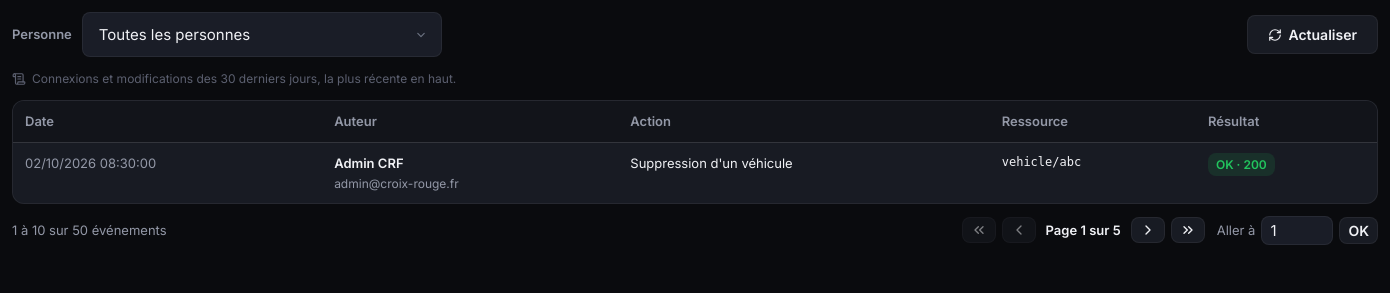
Test: AuditLogTab › première / dernière page et « Aller à »
Expected: the text "Page 1 sur 5" is shown, [1042,220,1125,241]
Click the button named "Dernière page" at (1188, 230), box [1171,218,1205,244]
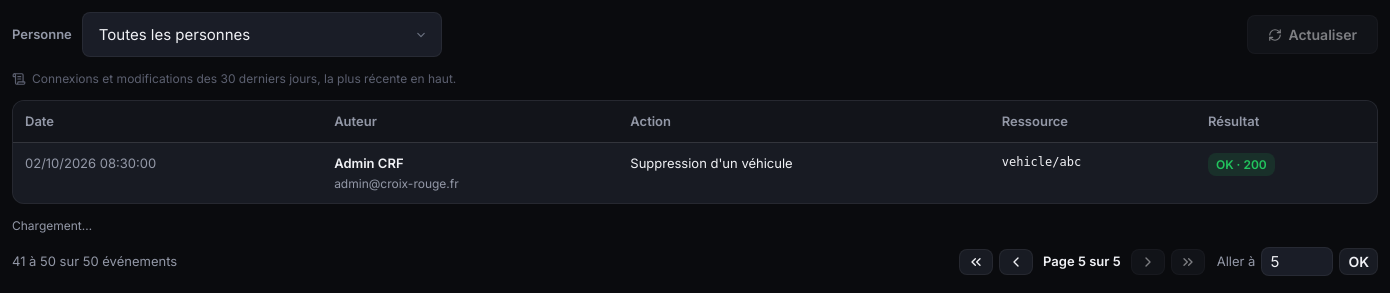
Result: the text "Page 5 sur 5" is shown at [1039,251,1125,272]
Replace the text in the number field labelled "Aller à" with "3" at (1297, 262), box [1261,247,1333,276]
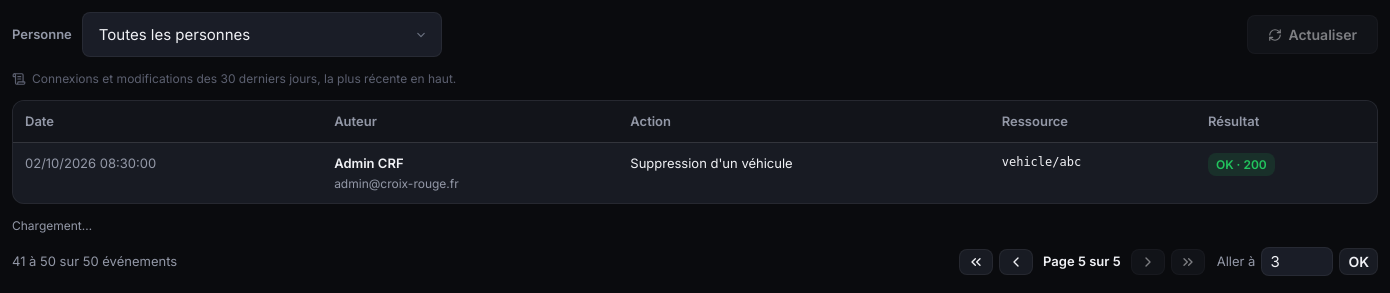
Click the button "OK" at (1359, 262), box [1339,248,1378,275]
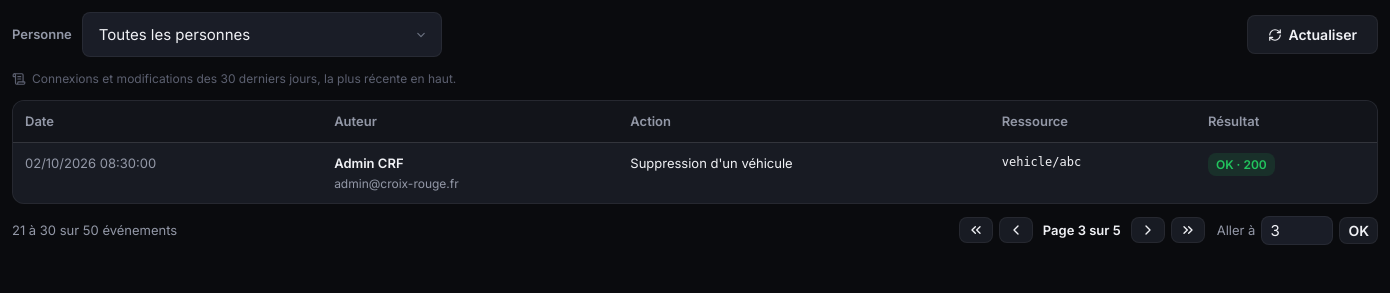
Result: the text "Page 3 sur 5" is shown at [1039,220,1125,241]
Click the button named "Première page" at (976, 230), box [959,218,993,244]
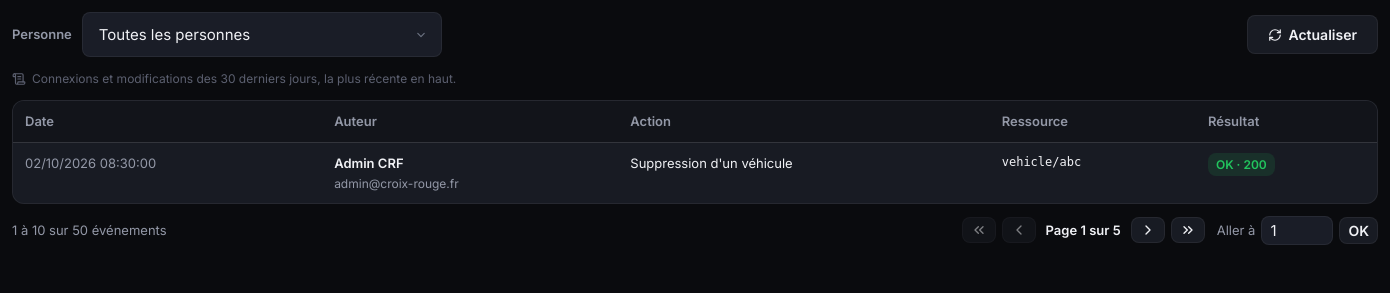
Result: the text "Page 1 sur 5" is shown at [1042,220,1125,241]
